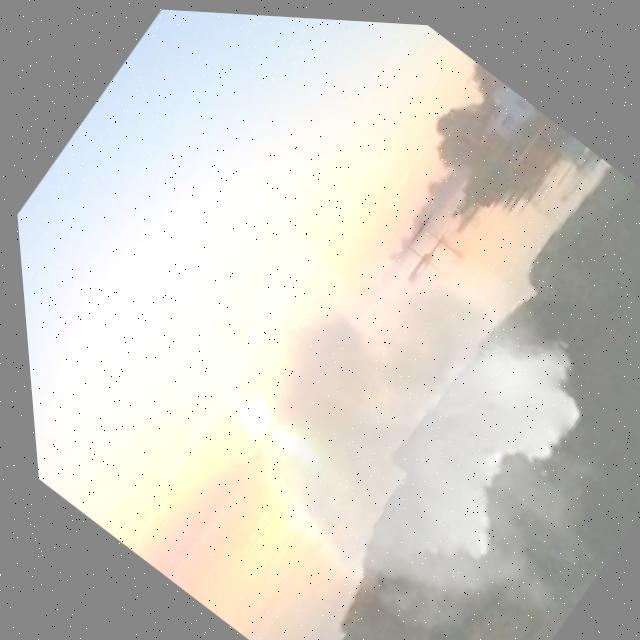Smoke: (116, 139, 640, 640)
